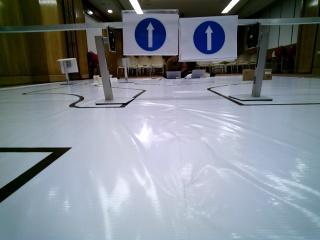straight: (123, 10, 178, 53), (185, 16, 237, 60)
